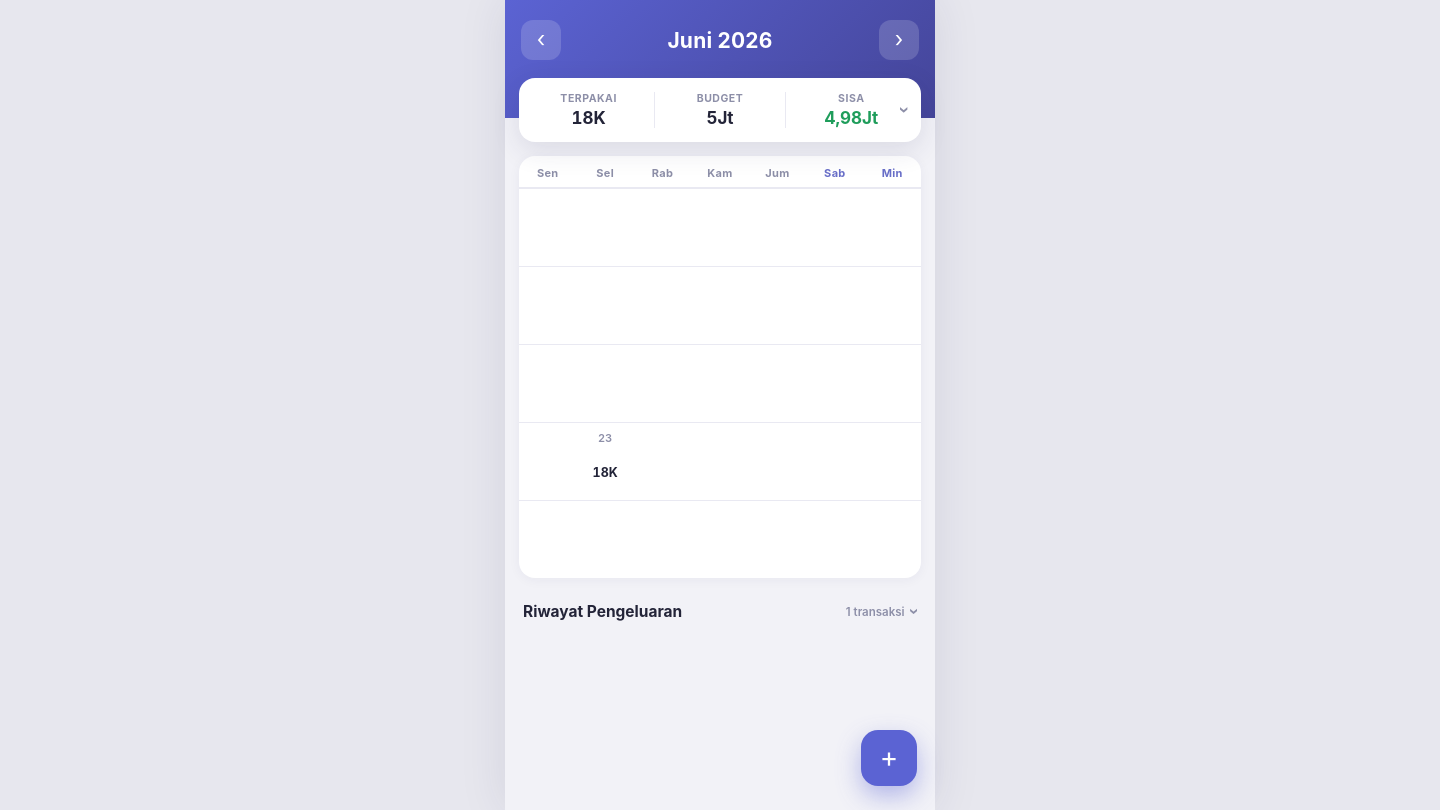
Test case: App — renders the server dashboard › adds an expense through the form and reloads the month
Check: the text "1 transaksi ›" is shown, box 846,604 -> 917,619
Click the button named "Tambah pengeluaran hari ini".
click(889, 758)  # box 861,730 -> 917,786
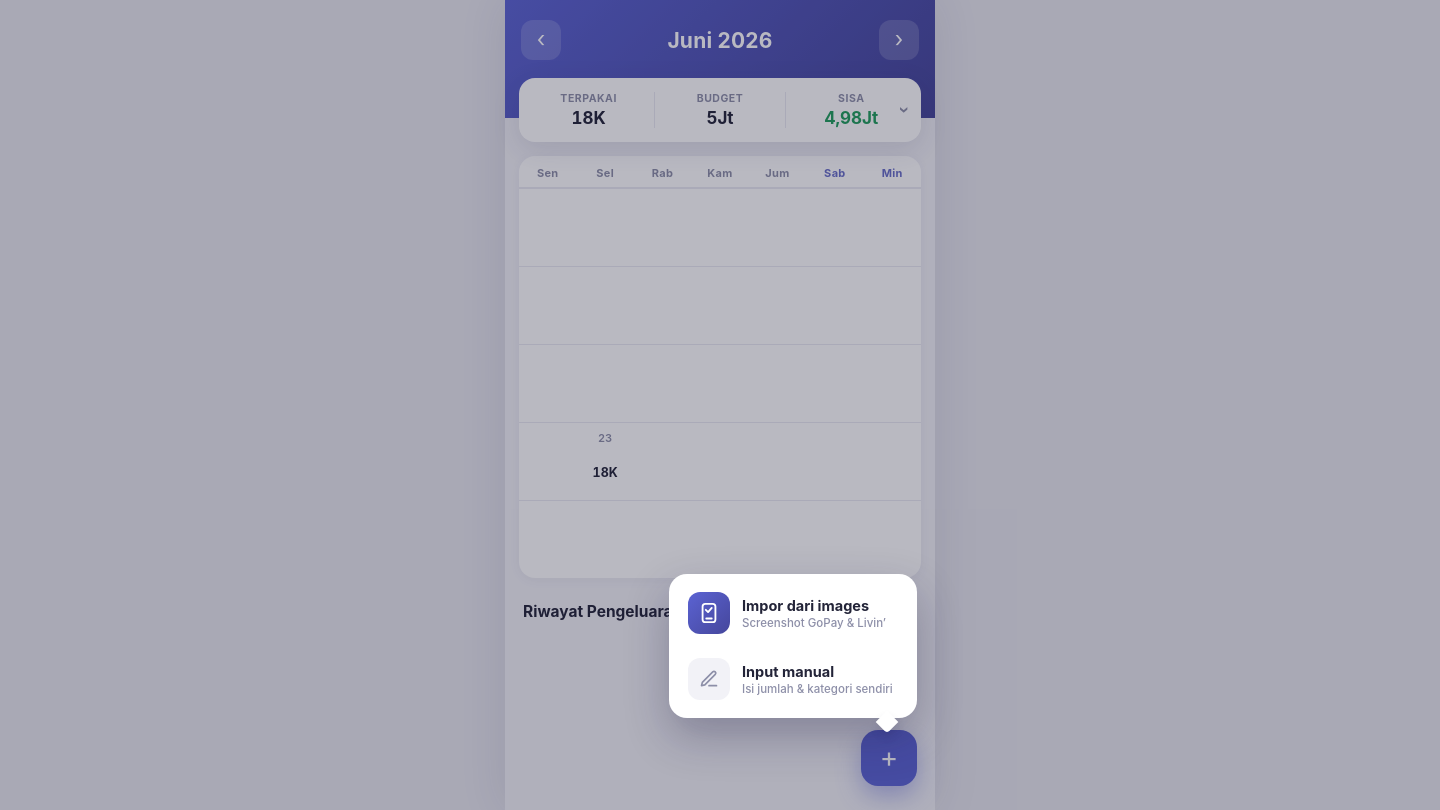
Click the text "Input manual".
click(788, 671)  # box 742,662 -> 834,680
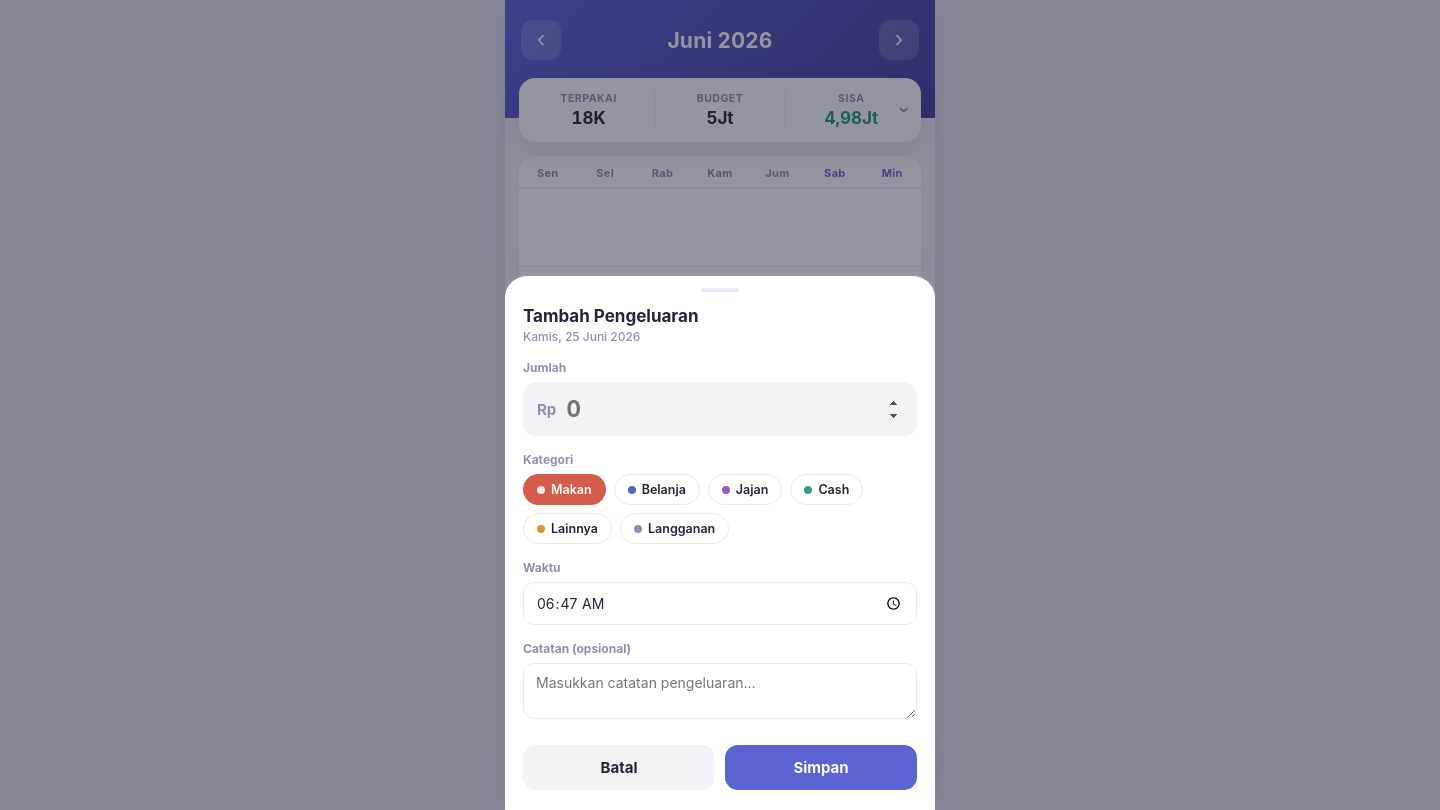
Type "50000" into the number field with placeholder "0".
click(734, 409); type("50000")  # box 564,394 -> 903,424
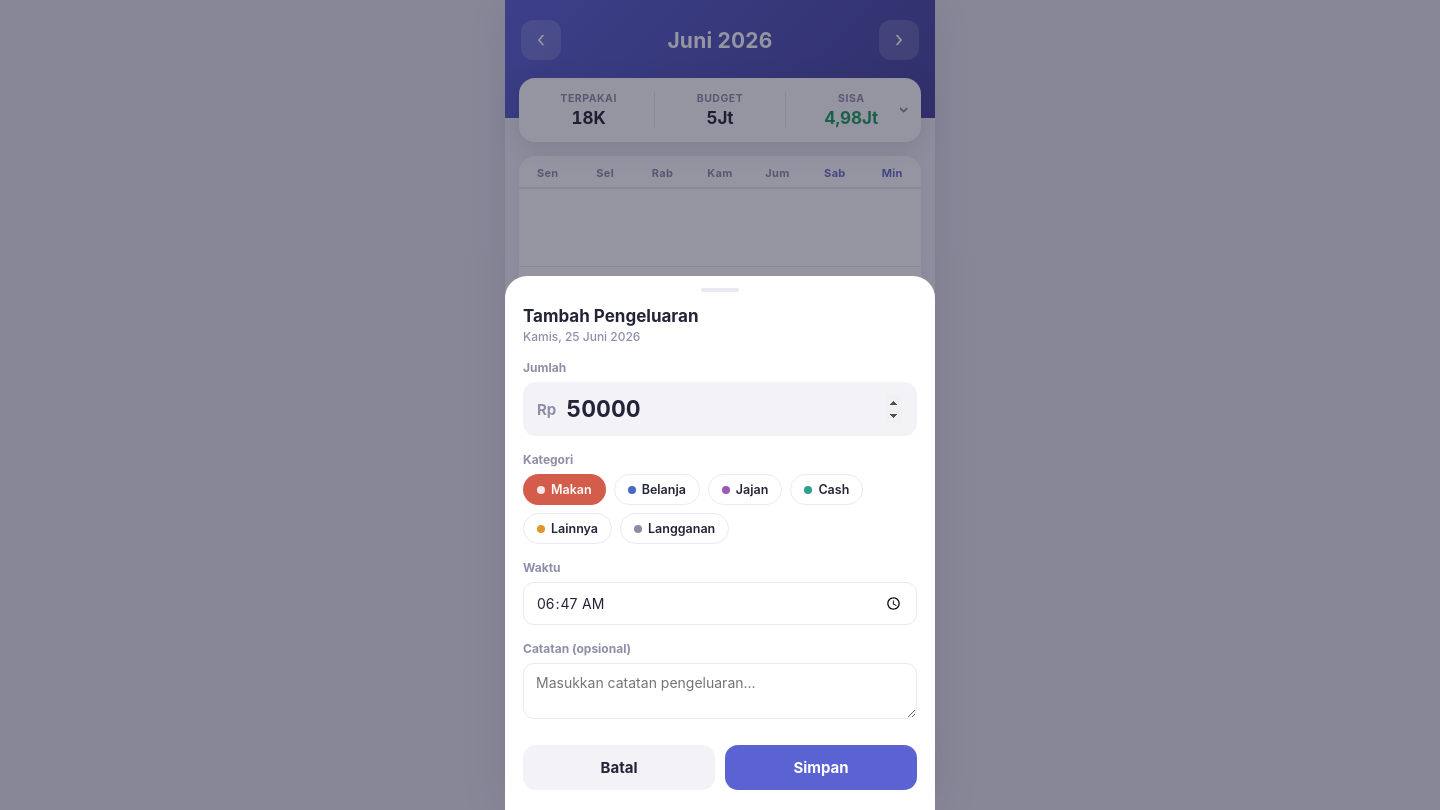
Click the button "Simpan".
click(821, 768)  # box 725,745 -> 917,790
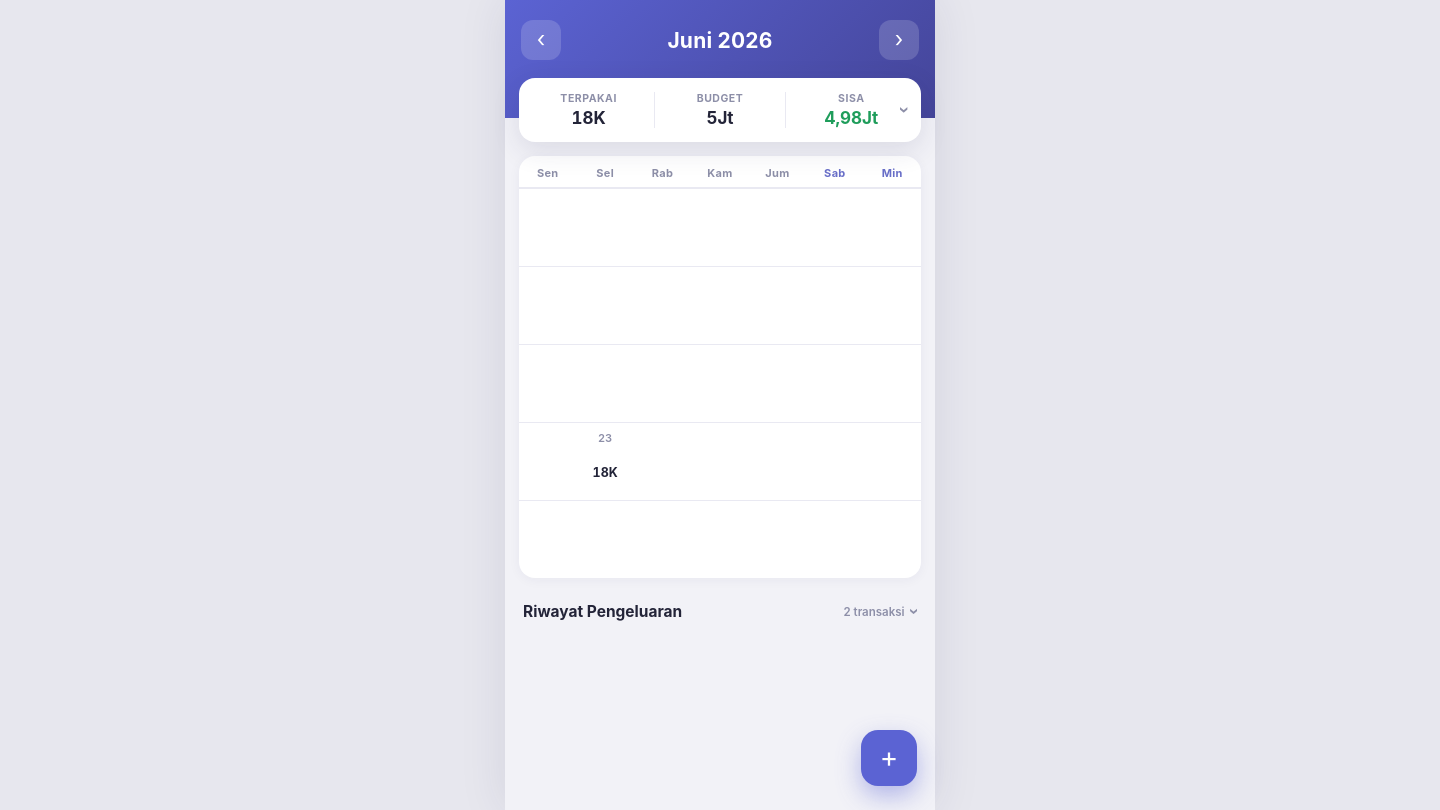
Check: the text "2 transaksi ›" is shown, box 844,604 -> 917,619
